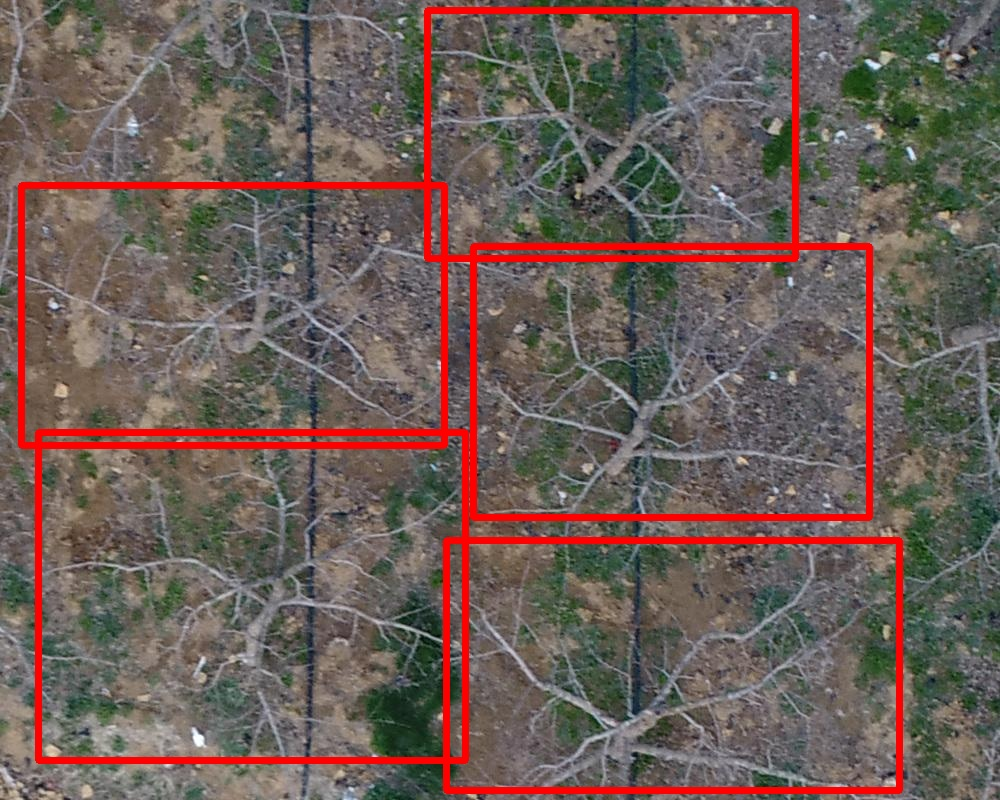apple: (38, 432, 465, 760), (446, 540, 899, 790), (21, 185, 444, 445), (473, 246, 869, 517), (427, 10, 795, 258)
